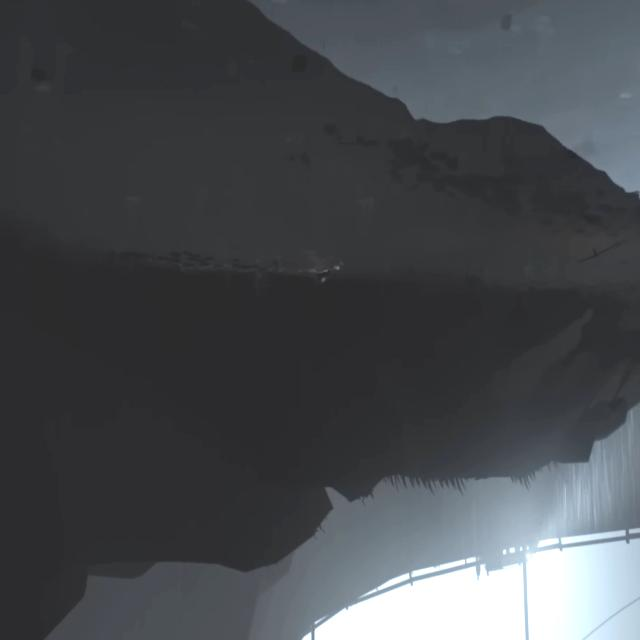boy: (297, 266, 340, 283)
